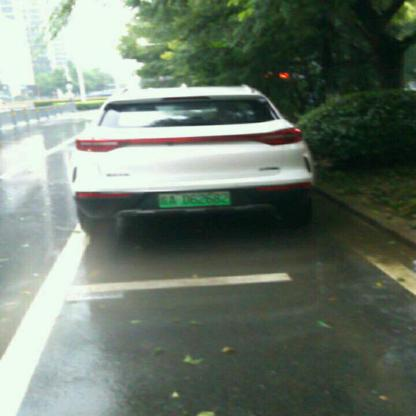lp: (158, 190, 232, 207)
